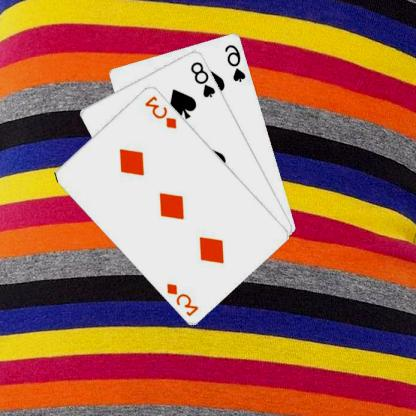3D: (165, 280, 202, 317), (144, 92, 180, 130)
6S: (224, 42, 248, 84)
8S: (189, 58, 219, 99)
